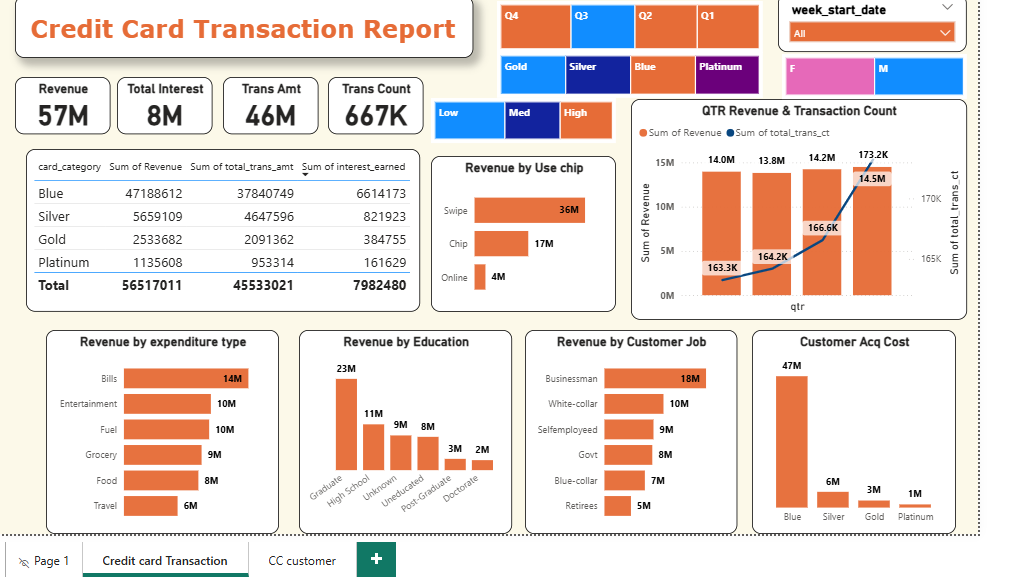

What the dashboard file says about the page in this screenshot:
{"tool":"powerbi","page":{"name":"Credit card Transaction","canvas":[1280,720],"ordinal":1},"visuals":[{"type":"textbox","box":[20.2,15.9,600,81],"z":0},{"type":"lineStackedColumnComboChart","title":"QTR Revenue  & Transaction Count","fields":{"Category":["public cc_detail.qtr"],"Y":["Sum(public cc_detail.Revenue)"],"Y2":["Sum(public cc_detail.total_trans_ct)"]},"box":[825.5,150.4,439.5,289.2],"z":1000},{"type":"barChart","title":"Revenue by expenditure type","fields":{"Y":["Sum(public cc_detail.Revenue)"],"Category":["public cc_detail.exp_type"]},"box":[60.7,452.5,305.1,267.5],"z":2000},{"type":"columnChart","title":"Revenue by Education ","fields":{"Category":["public cust_detail.education_level"],"Y":["Sum(public cc_detail.Revenue)"]},"box":[391.8,452.5,279,267.5],"z":3000},{"type":"barChart","title":"Revenue by Customer Job","fields":{"Y":["Sum(public cc_detail.Revenue)"],"Category":["public cust_detail.customer_job"]},"box":[686.7,452.5,277.6,267.5],"z":4000},{"type":"columnChart","title":"Customer Acq Cost","fields":{"Category":["public cc_detail.card_category"],"Y":["Sum(public cc_detail.Revenue)"]},"box":[984.6,452.5,267.5,267.5],"z":5000},{"type":"barChart","title":"Revenue by Use chip","fields":{"Y":["Sum(public cc_detail.Revenue)"],"Category":["public cc_detail.use_chip"]},"box":[564.2,224.8,242.4,204.2],"z":6000},{"type":"tableEx","fields":{"Values":["public cc_detail.card_category","Sum(public cc_detail.Revenue)","Sum(public cc_detail.total_trans_amt)","Sum(public cc_detail.interest_earned)"]},"box":[33.8,216,515.8,213.1],"z":7000},{"type":"card","title":"Revenue","fields":{"Values":["Sum(public cc_detail.Revenue)"]},"box":[20.2,121.4,125,75],"z":8000},{"type":"card","title":"Trans Amt","fields":{"Values":["Sum(public cc_detail.total_trans_amt)"]},"box":[292,121.4,125,75],"z":9000},{"type":"card","title":"Total Interest","fields":{"Values":["Sum(public cc_detail.interest_earned)"]},"box":[153.3,121.4,125,75],"z":10000},{"type":"card","title":"Trans Count","fields":{"Values":["Sum(public cc_detail.total_trans_ct)"]},"box":[429.4,121.4,125,75],"z":11000},{"type":"treemap","fields":{"Group":["public cc_detail.qtr"],"Values":["Avg(public cc_detail.client_num)"]},"box":[650.9,22,348.2,67.6],"z":12000},{"type":"slicer","fields":{"Values":["public cc_detail.week_start_date"]},"box":[1018.3,13.2,246.9,76.4],"z":13000},{"type":"treemap","fields":{"Group":["public cust_detail.gender"],"Values":["Avg(public cc_detail.client_num)"]},"box":[1024.2,91.1,242.4,58.8],"z":14000},{"type":"treemap","fields":{"Group":["public cc_detail.card_category"],"Values":["Avg(public cc_detail.client_num)"]},"box":[650.9,89.6,348.2,60.2],"z":15000},{"type":"treemap","fields":{"Group":["public cust_detail.IncomeGroup"],"Values":["Sum(public cc_detail.client_num)"]},"box":[564.2,149.9,242.4,58.8],"z":16000}]}

Visuals, with their boxes in screenshot pixels (x1, y1, x2, y2):
textbox: [15,0,472,58]
"QTR Revenue  & Transaction Count" lineStackedColumnComboChart: [628,98,963,319]
"Revenue by expenditure type" barChart: [46,328,278,532]
"Revenue by Education " columnChart: [298,328,511,532]
"Revenue by Customer Job" barChart: [523,328,734,532]
"Customer Acq Cost" columnChart: [749,328,953,532]
"Revenue by Use chip" barChart: [429,155,614,310]
tableEx - public cc_detail.card_category x Sum(public cc_detail.Revenue): [26,148,418,311]
"Revenue" card: [15,76,111,133]
"Trans Amt" card: [222,76,317,133]
"Total Interest" card: [117,76,212,133]
"Trans Count" card: [327,76,422,133]
treemap - public cc_detail.qtr x Avg(public cc_detail.client_num): [495,1,760,52]
slicer - public cc_detail.week_start_date: [775,0,963,52]
treemap - public cust_detail.gender x Avg(public cc_detail.client_num): [780,53,964,98]
treemap - public cc_detail.card_category x Avg(public cc_detail.client_num): [495,52,760,98]
treemap - public cust_detail.IncomeGroup x Sum(public cc_detail.client_num): [429,98,614,143]
